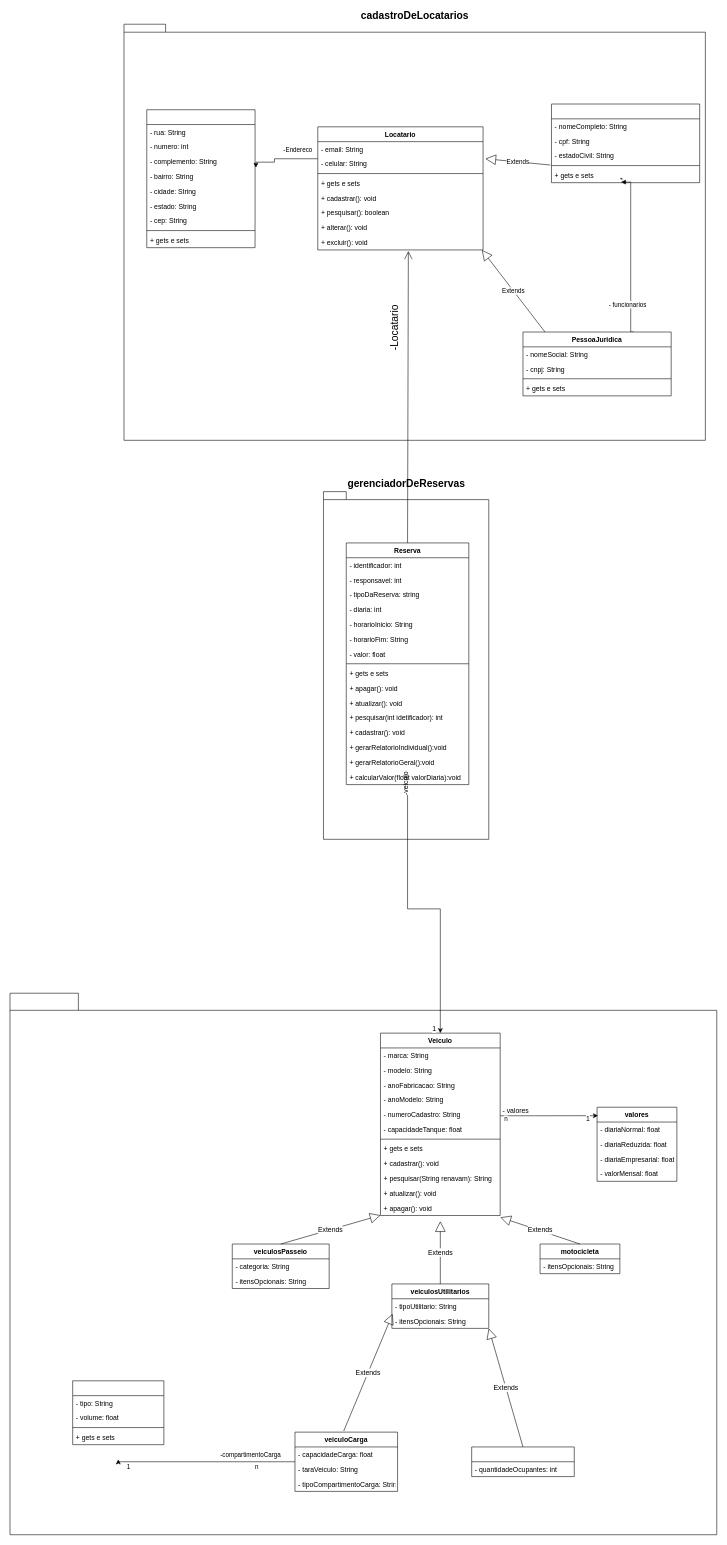
Image size: 727x1545. Some labels were removed from this diagram. Each missing label, with the box of its shape:
Endereco: (146, 109, 255, 248)
gerenciamentoDeFrota: (9, 993, 717, 1535)
PessoaFisica: (551, 103, 700, 183)
tipoCompartimentoCarga: (72, 1380, 164, 1445)
veiculoPassageiro: (471, 1446, 574, 1477)
